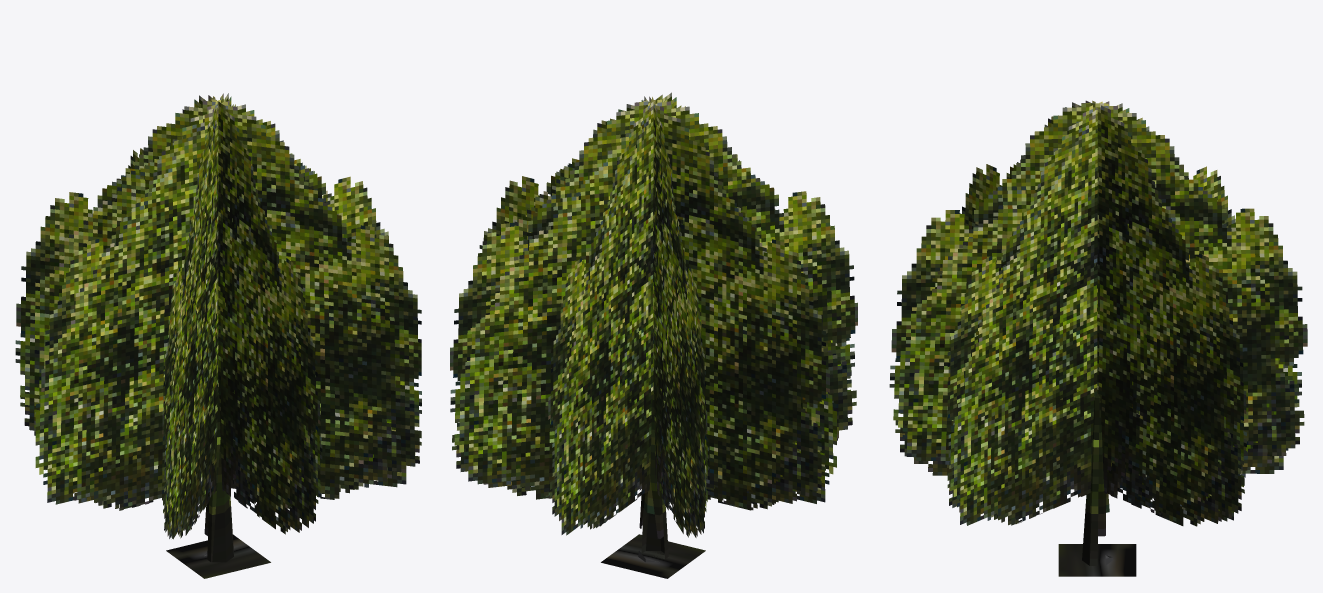
File: Tree1.glb
3 renders of one model, left to right at view 1: azimuth 30°, elevation 25°; view 2: azimuth 150°, elevation 25°; view 3: azimuth 270°, elevation 25°, orthographic.
Parts seen in each view (by area): view 1: tree20, Plane; view 2: tree20, Plane; view 3: tree20, Plane.
Part boxes in pixels (left/top/right/bottom): tree20: left=15, top=93, right=421, bottom=562; Plane: left=166, top=534, right=270, bottom=578; tree20: left=450, top=92, right=857, bottom=562; Plane: left=601, top=534, right=705, bottom=578; tree20: left=889, top=100, right=1307, bottom=565; Plane: left=1058, top=544, right=1136, bottom=576.
Size of the model in its own units: 10.89 by 13 by 10.89.
2 materials, 2 textured.
